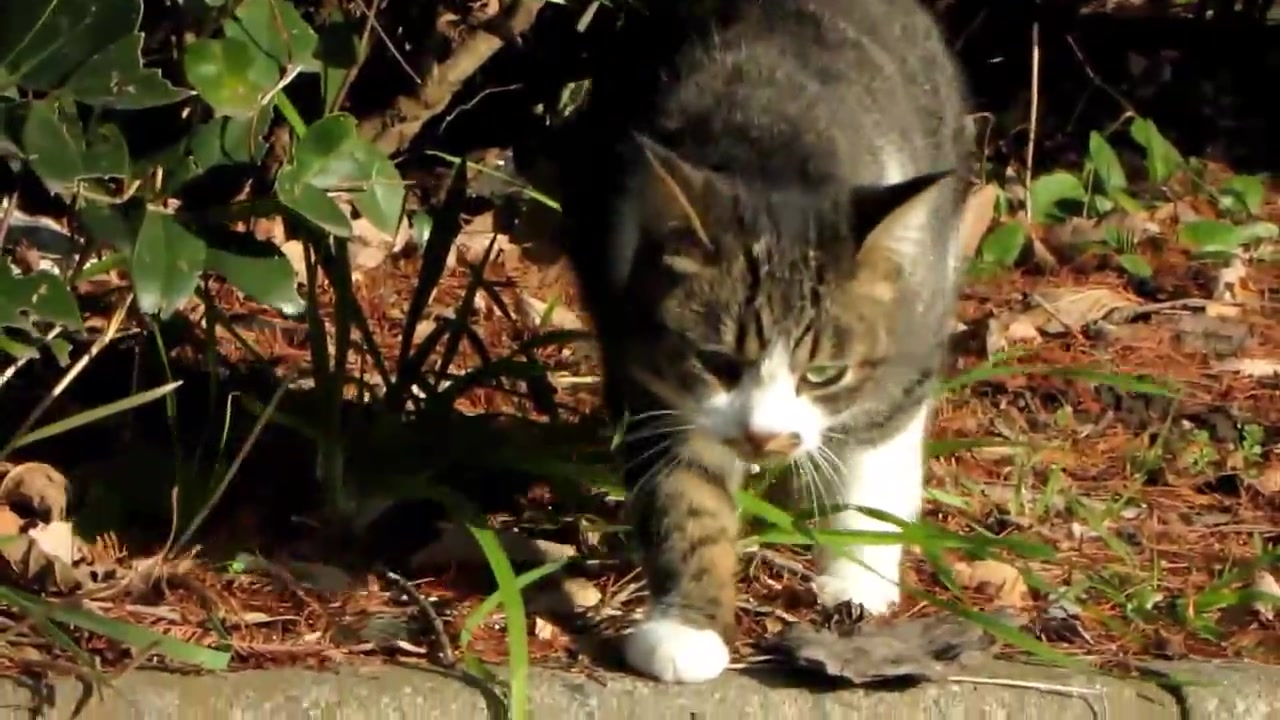cat: (563, 3, 980, 686)
